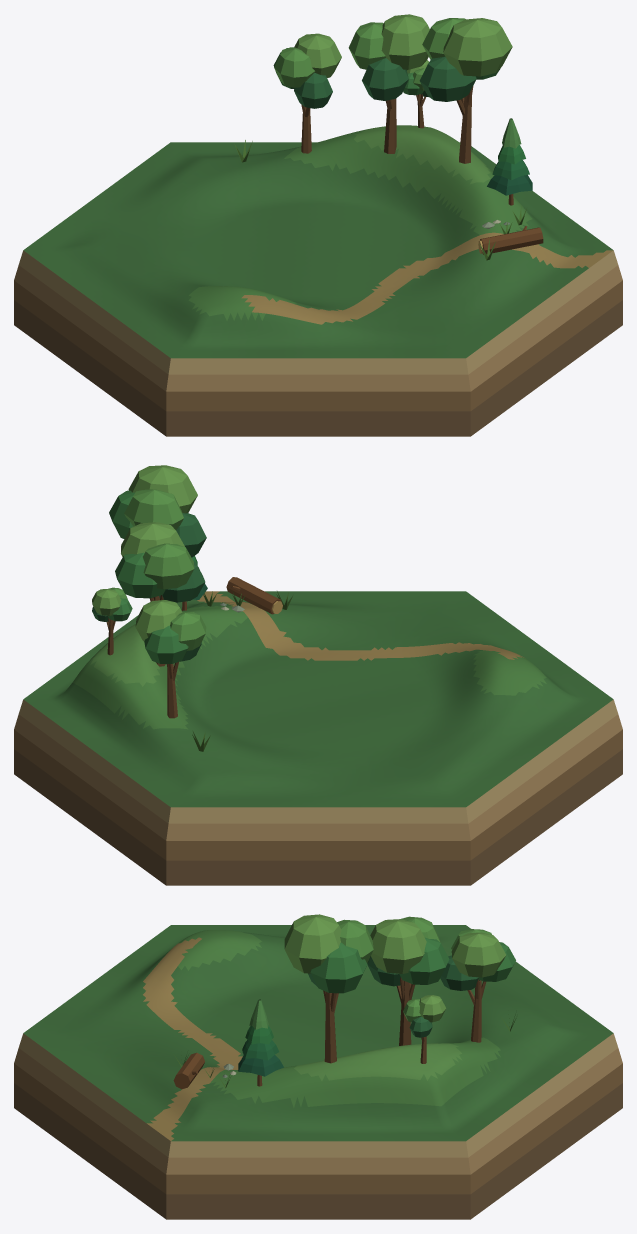
File: catan_terrain_forest_02.glb
The picture shows the model from 3 angles, top to bottom: view 1: azimuth 30°, elevation 25°; view 2: azimuth 150°, elevation 25°; view 3: azimuth 270°, elevation 25°; orthographic projection.
Parts seen in each view (by area): view 1: catan_terrain_forest_02_ground, catan_terrain_forest_02_decoration; view 2: catan_terrain_forest_02_ground, catan_terrain_forest_02_decoration; view 3: catan_terrain_forest_02_ground, catan_terrain_forest_02_decoration.
Boxes of the visible parts, box(x1,y1,x2,y2) form: catan_terrain_forest_02_ground: box(14, 125, 622, 436); catan_terrain_forest_02_decoration: box(234, 14, 543, 260); catan_terrain_forest_02_ground: box(14, 591, 622, 885); catan_terrain_forest_02_decoration: box(92, 465, 292, 751); catan_terrain_forest_02_ground: box(14, 925, 622, 1219); catan_terrain_forest_02_decoration: box(173, 914, 516, 1089).
Size of the model in its own units: 1.71 by 0.9558 by 1.97.
